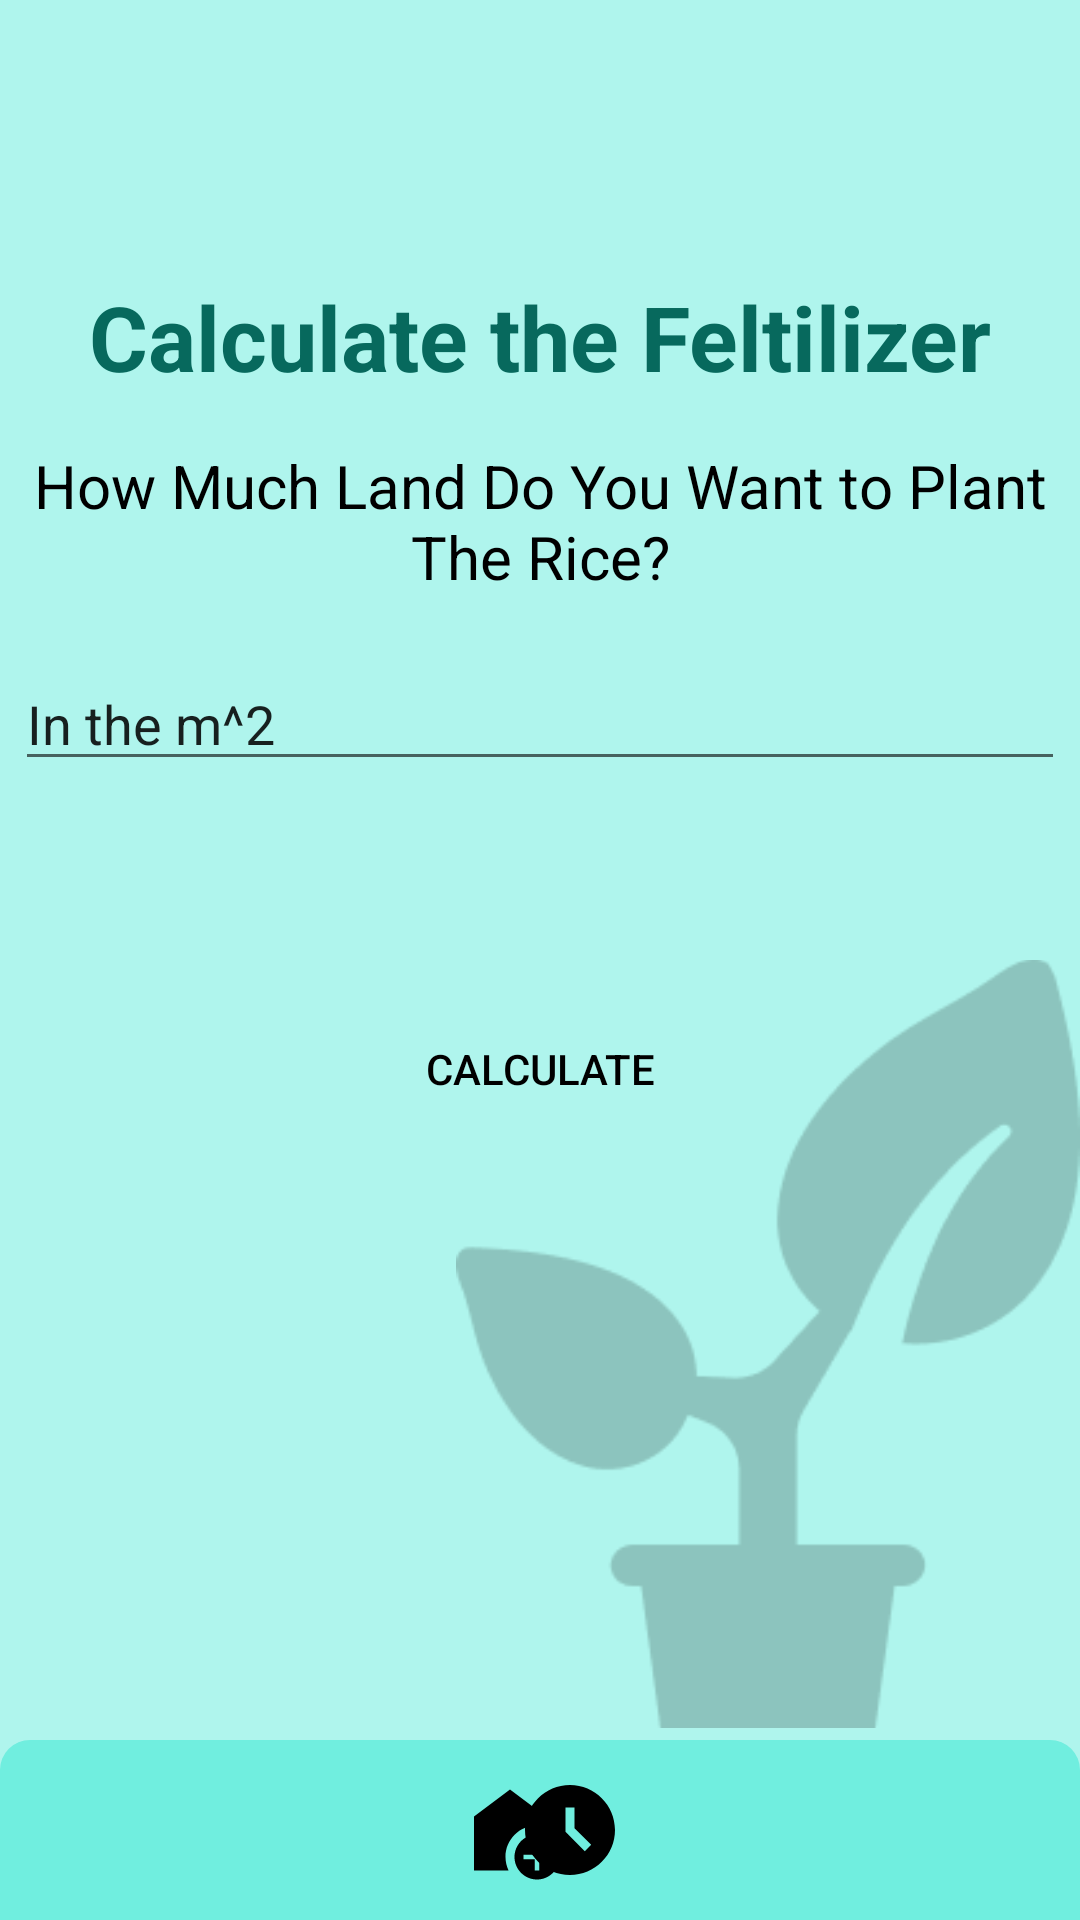

Icon click points for this 1080 × 1920 phone screenshot, format point (x, y):
history: point (565, 1832)
